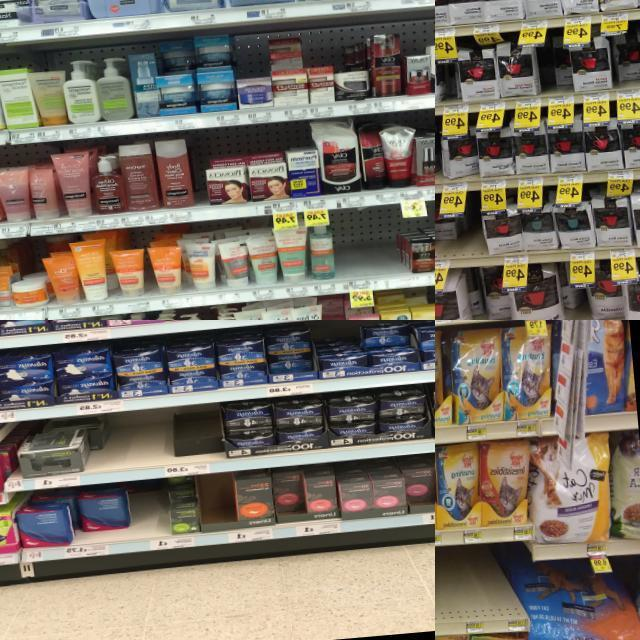Imprecise: (74, 483, 132, 544), (268, 30, 312, 108), (158, 35, 196, 114), (458, 266, 509, 318), (271, 461, 310, 527), (538, 26, 572, 94), (560, 264, 594, 324), (608, 26, 640, 89), (433, 194, 462, 262)
